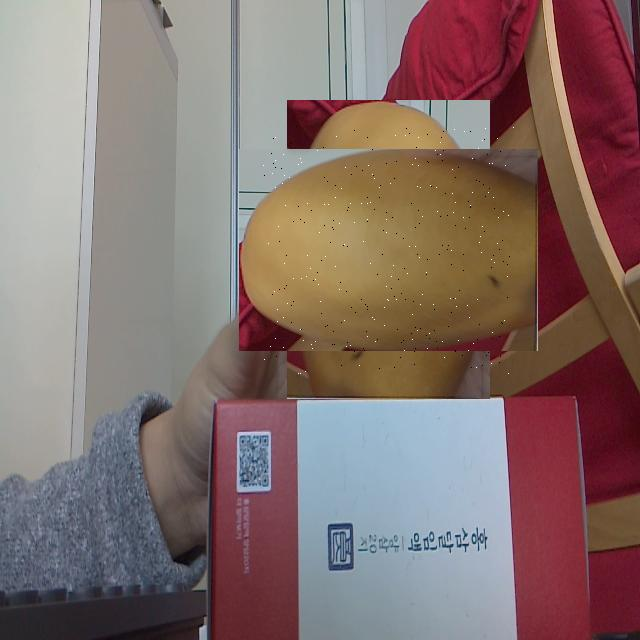pear: (263, 124, 514, 375)
